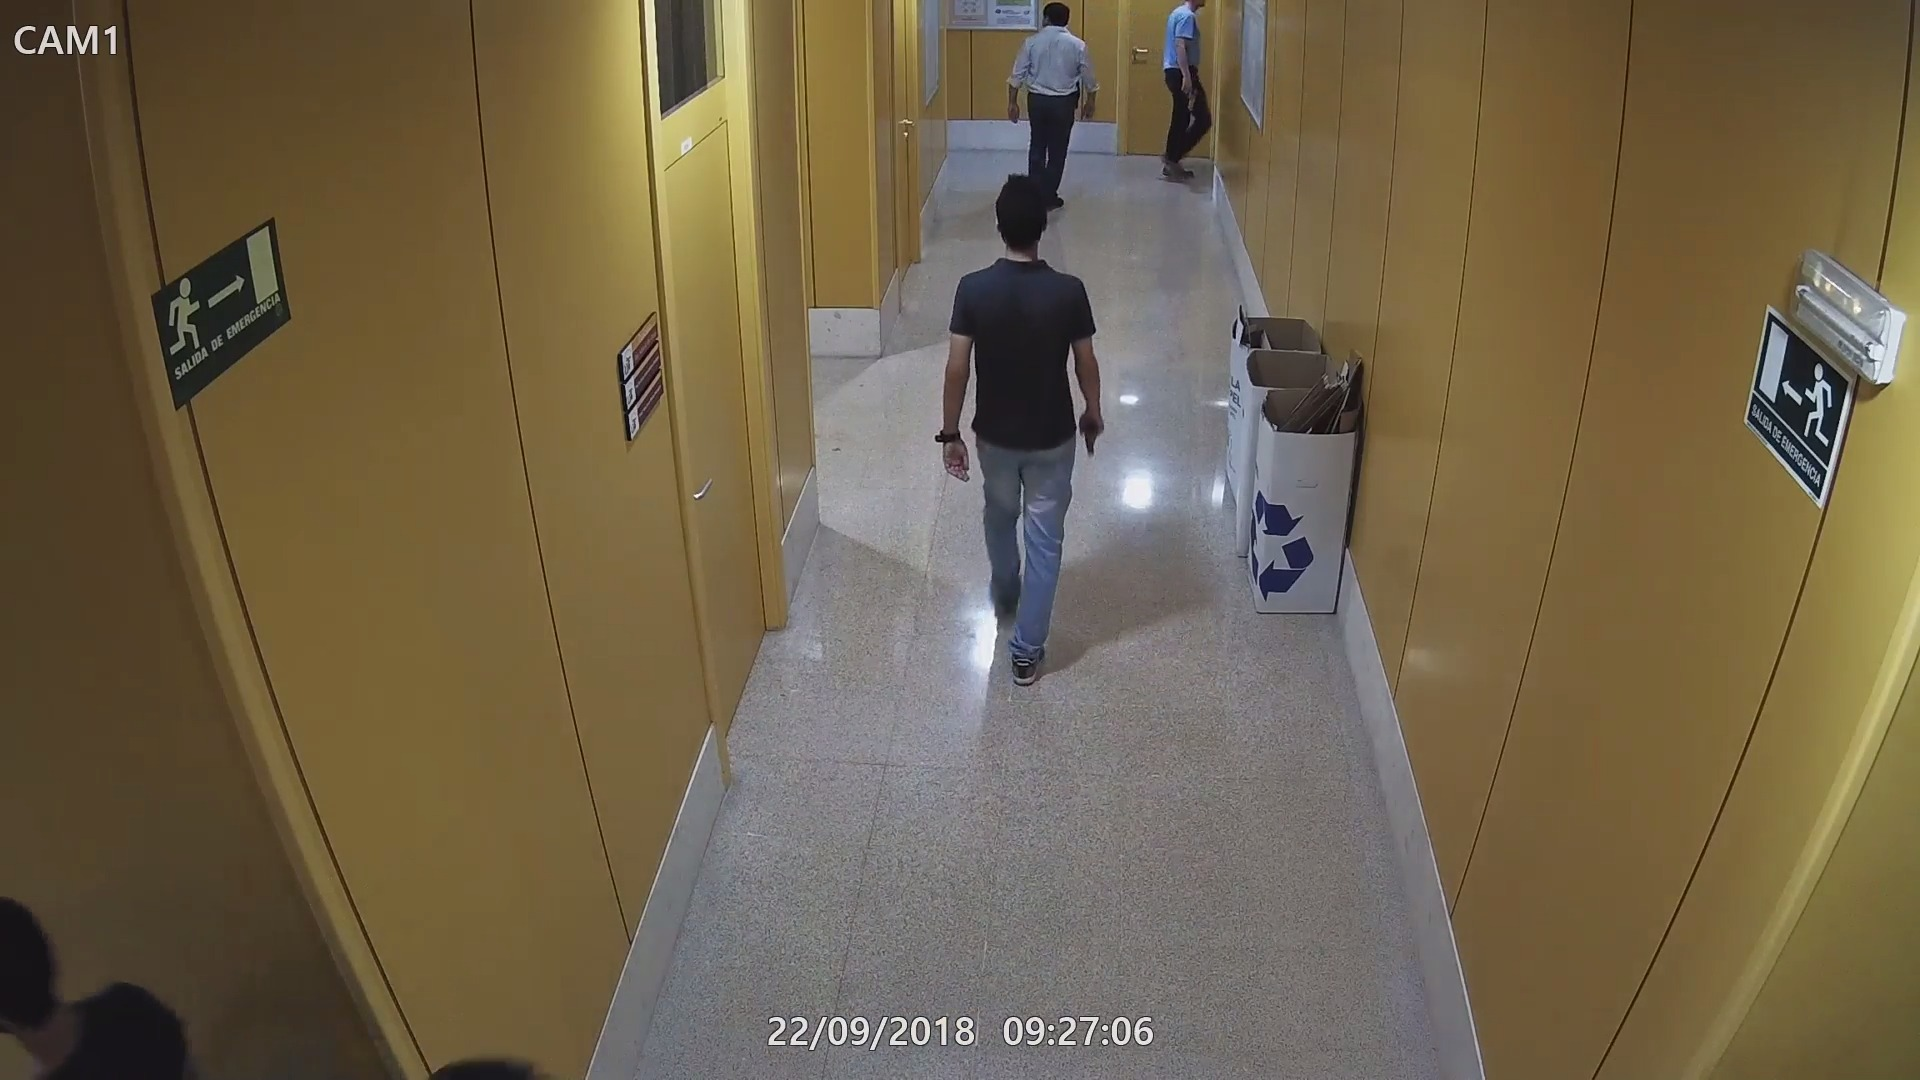Handgun: (1080, 407, 1106, 458), (1178, 79, 1204, 112)
